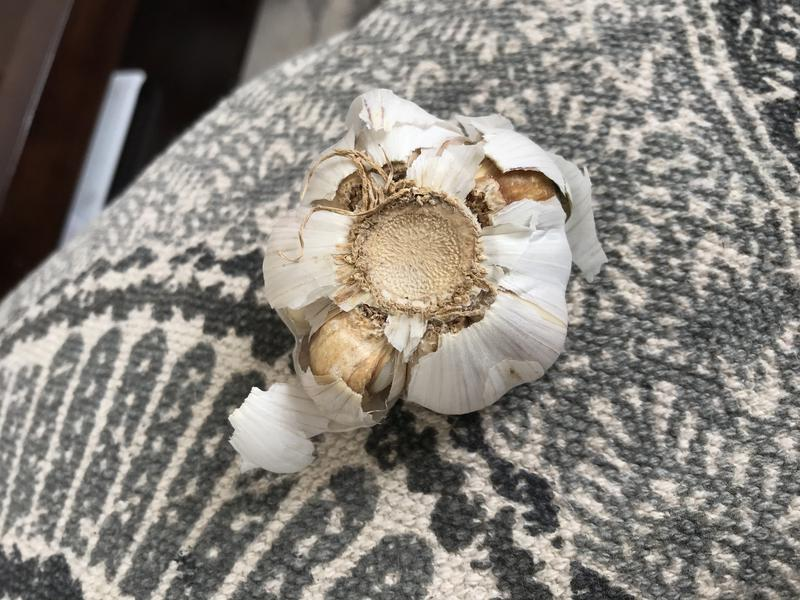garlic: (253, 78, 613, 430)
